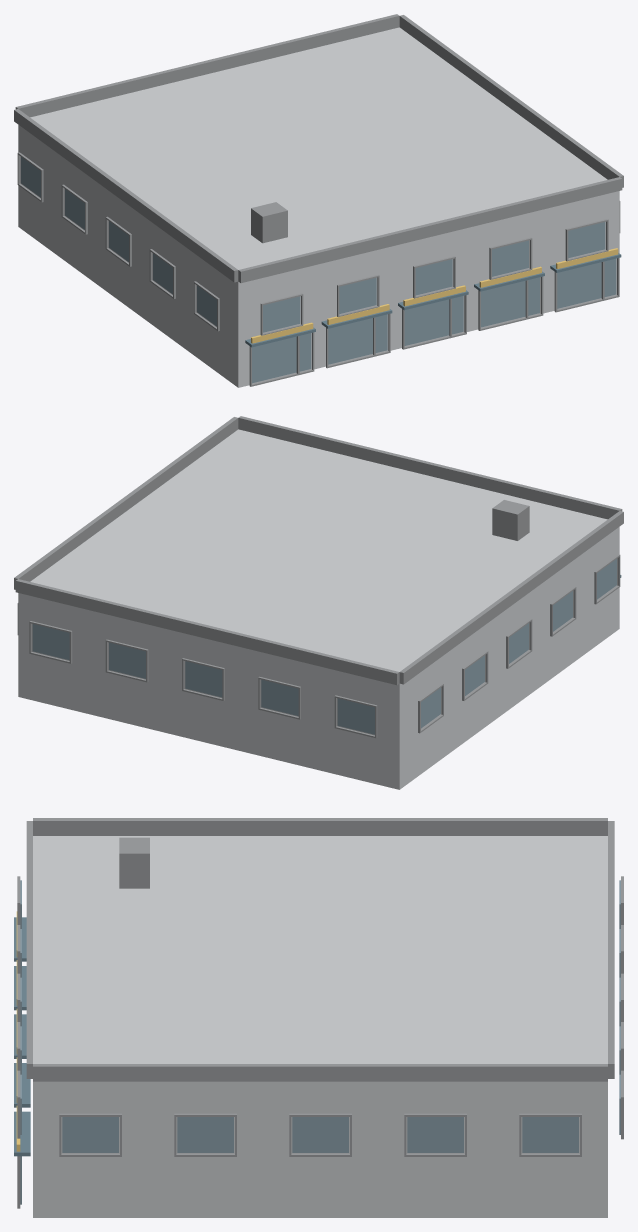
The model's file is commercial_3x3_a.glb.
3 views of the same model, one above another, from view 1: azimuth 30°, elevation 25°; view 2: azimuth 150°, elevation 25°; view 3: azimuth 270°, elevation 25° (orthographic). The views are drawn at different scales.
Visible parts, largest first — view 1: commercial_3x3_a_0; view 2: commercial_3x3_a_0; view 3: commercial_3x3_a_0.
Part boxes in pixels (<box>): commercial_3x3_a_0: <box>14,14,623,387</box>; commercial_3x3_a_0: <box>14,416,623,789</box>; commercial_3x3_a_0: <box>14,818,623,1217</box>.
Size of the model in its own units: 23.74 by 7.5 by 23.87.
